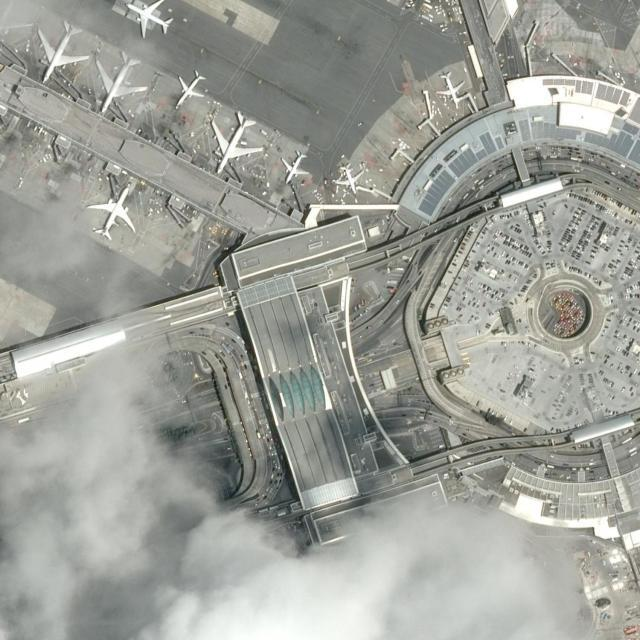Aircraft: (209, 107, 264, 175), (33, 16, 87, 84), (93, 49, 147, 115), (84, 181, 136, 241), (121, 0, 175, 38), (172, 68, 207, 111), (331, 157, 365, 195), (434, 71, 466, 106), (278, 149, 310, 183)
